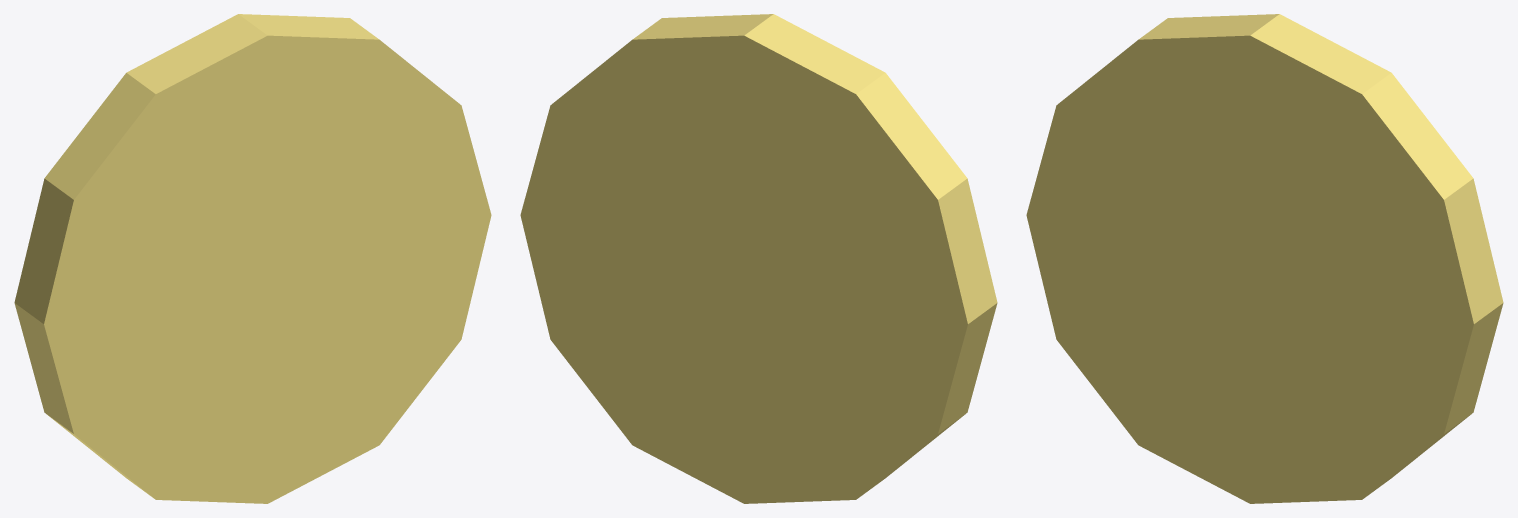
File: coin.glb
3 renders of one model, left to right at view 1: azimuth 30°, elevation 25°; view 2: azimuth 150°, elevation 25°; view 3: azimuth 330°, elevation 25°, orthographic.
Visible parts, largest first — view 1: coin; view 2: coin; view 3: coin.
Boxes of the visible parts, left/top/right/bottom form: coin: left=14, top=14, right=491, bottom=503; coin: left=520, top=14, right=997, bottom=503; coin: left=1026, top=14, right=1503, bottom=503.
Bounding box in the file's own units: 0.5 × 0.5 × 0.0571.
